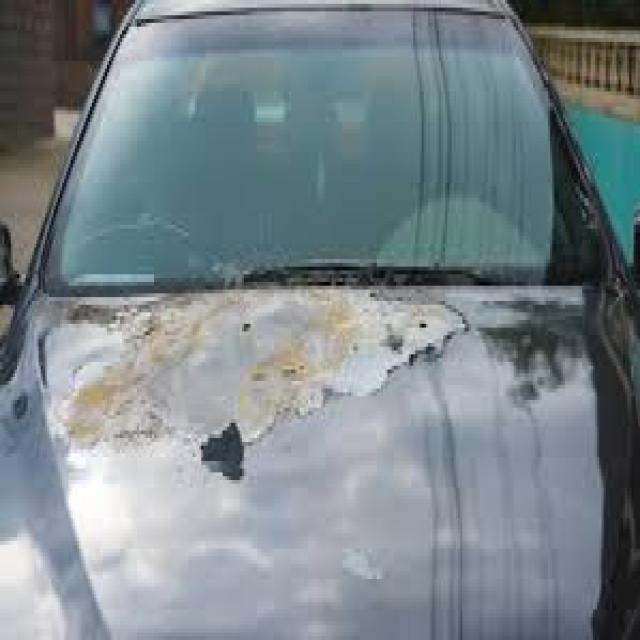Paint-fading: (47, 290, 462, 476)
